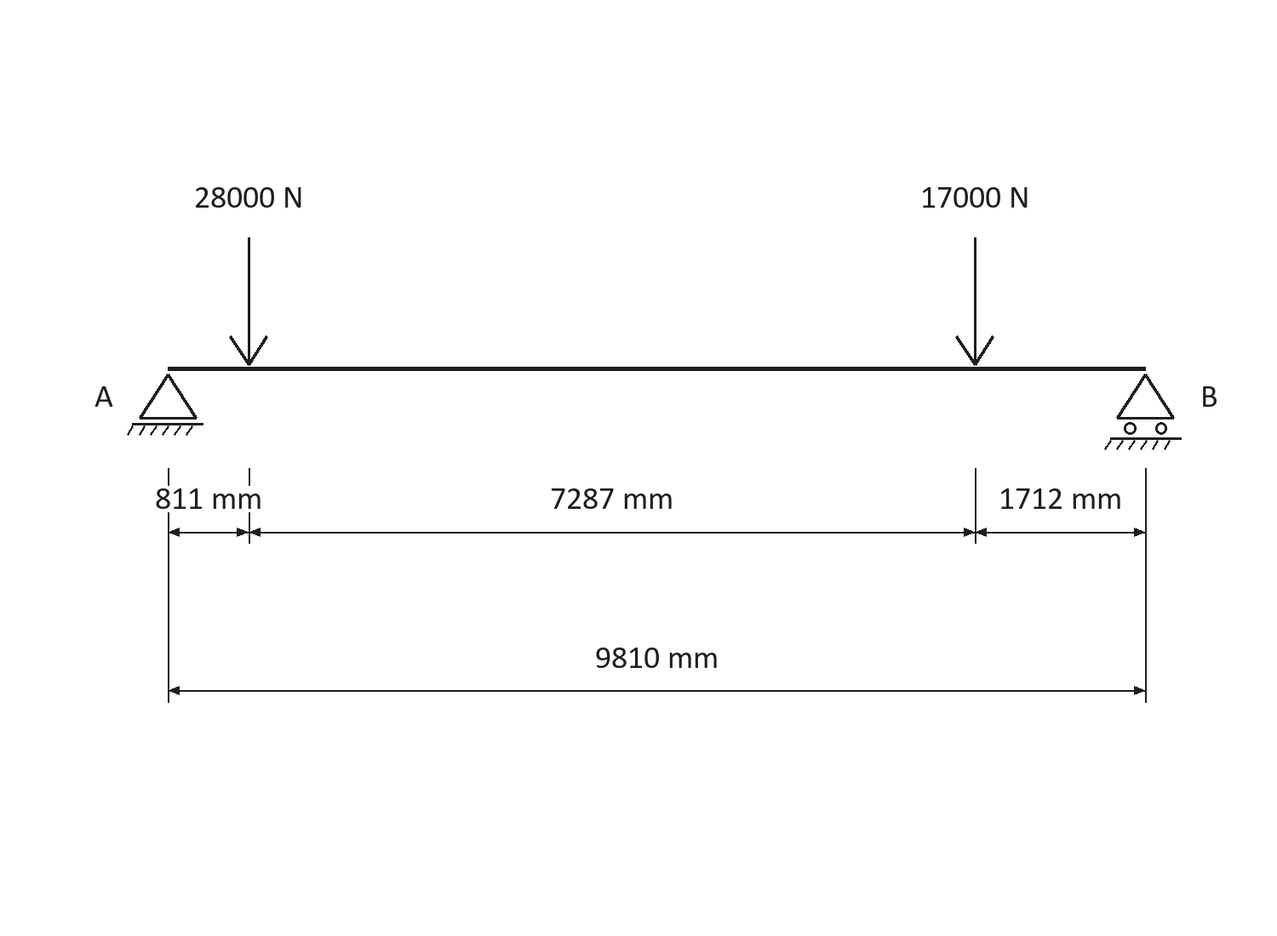pin_support: (127, 374, 203, 436)
point_load: (229, 237, 268, 366), (955, 237, 994, 366)
roller_support: (1104, 374, 1182, 450)
